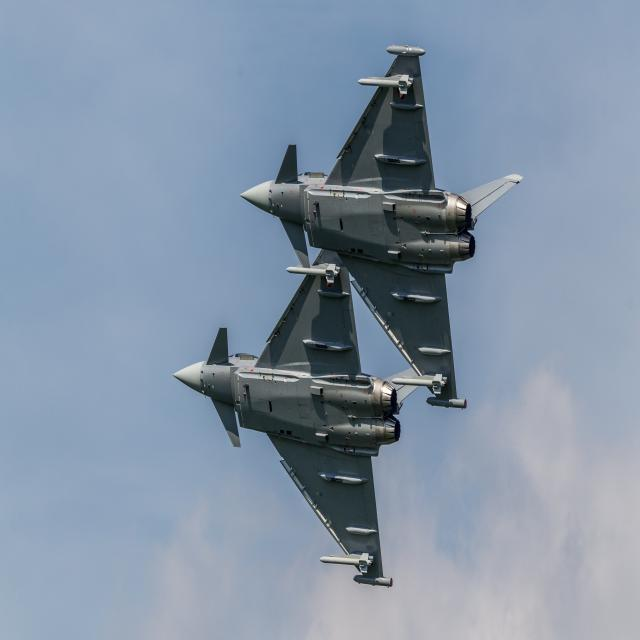MIL_Plane: (239, 44, 523, 410), (172, 250, 420, 588)
